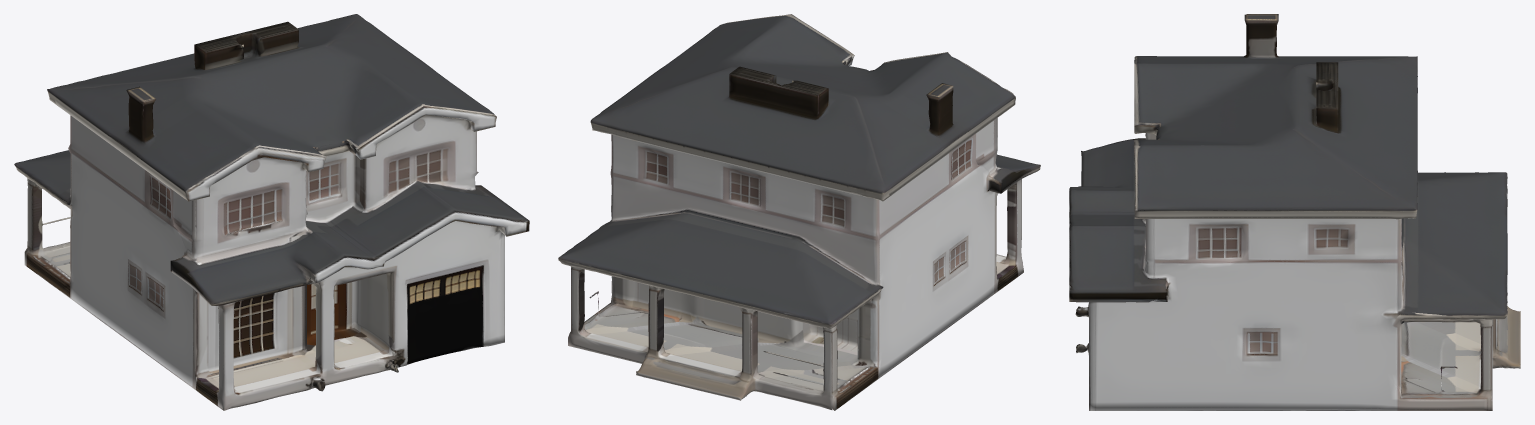
File: adam_brody__leighton_meester_house.glb
The picture shows the model from 3 angles, left to right: view 1: azimuth 30°, elevation 25°; view 2: azimuth 150°, elevation 25°; view 3: azimuth 270°, elevation 25°; orthographic projection. The views are drawn at different scales.
Visible parts, largest first — view 1: Object_2; view 2: Object_2; view 3: Object_2.
Boxes of the visible parts, <box> form: Object_2: <box>14,14,529,410</box>; Object_2: <box>558,14,1040,410</box>; Object_2: <box>1069,14,1520,410</box>.
Bounding box in the file's own units: 1.53 × 1.19 × 1.9.
Materials: 1 (1 with a texture image).
